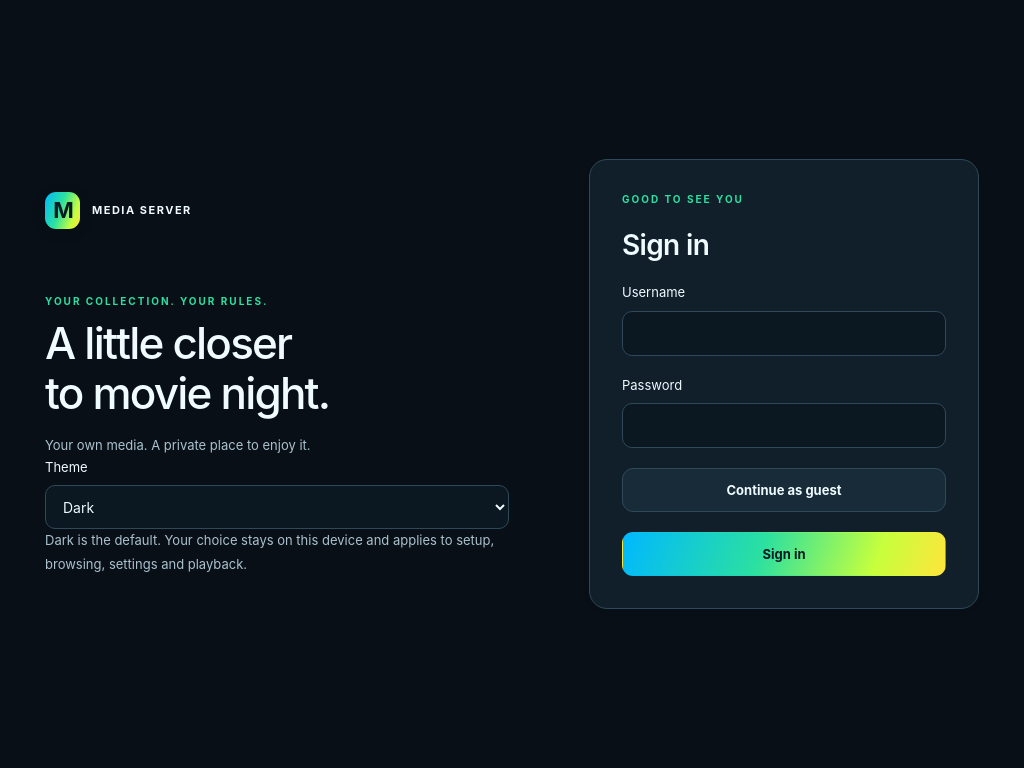
Scenario: enters an opted-in guest session without submitting password fields and hides private controls
Step 1. Click the button "Continue as guest" → (784, 490), box [622, 468, 946, 512]
(page scrolled)
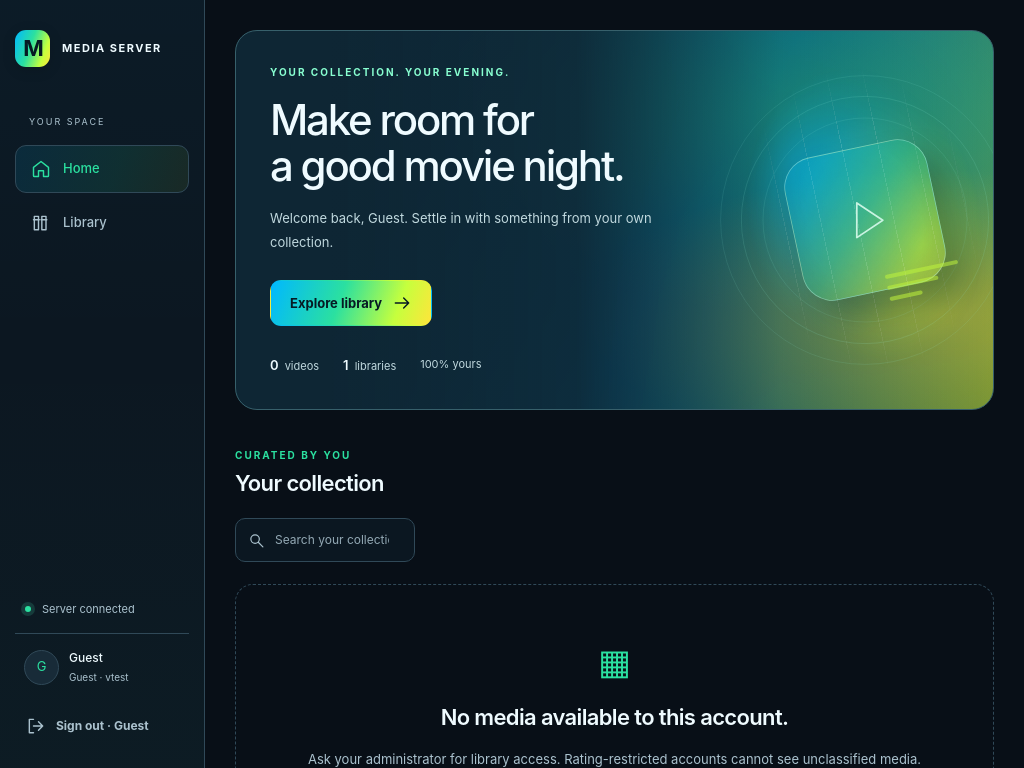
Now the text "Welcome back, Guest" is shown, box [270, 206, 710, 255]
Now the text "Settings" is gone
